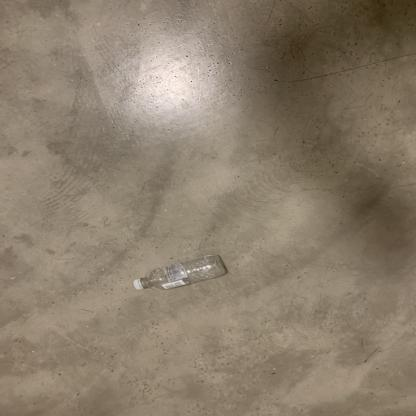trash: (135, 254, 229, 291)
